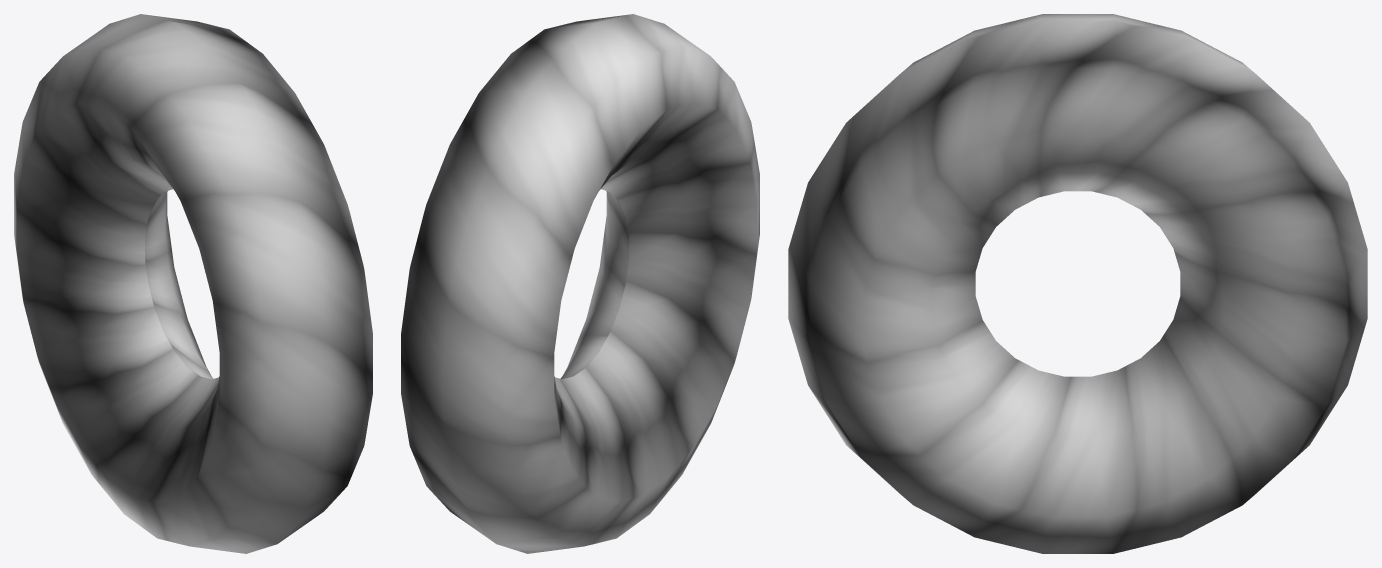
File: SM_Spool.fbx
3 renders of one model, left to right at view 1: azimuth 30°, elevation 25°; view 2: azimuth 150°, elevation 25°; view 3: azimuth 270°, elevation 25°, orthographic. The views are drawn at different scales.
Parts seen in each view (by area): view 1: SM_Spool; view 2: SM_Spool; view 3: SM_Spool.
Boxes of the visible parts, x1=… form: SM_Spool: x1=14, y1=14, x2=372, y2=553; SM_Spool: x1=401, y1=14, x2=759, y2=553; SM_Spool: x1=788, y1=14, x2=1367, y2=553.
Bounding box in the file's own units: 16.7 × 52.65 × 52.65.
